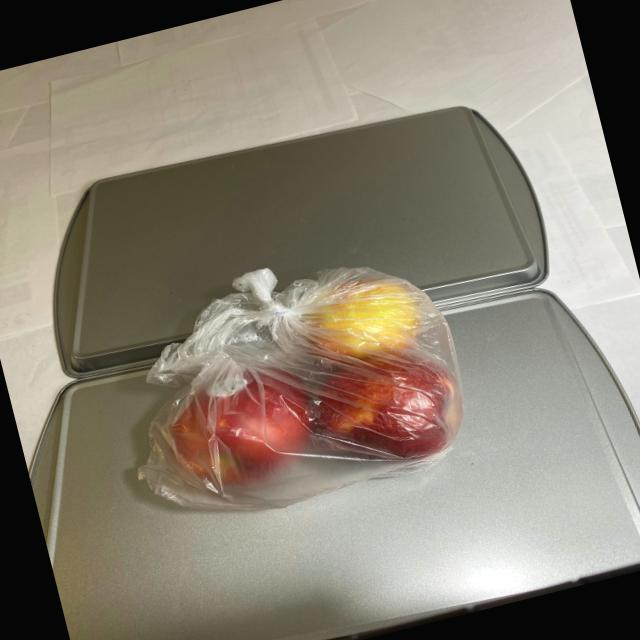apple: (122, 253, 475, 526)
